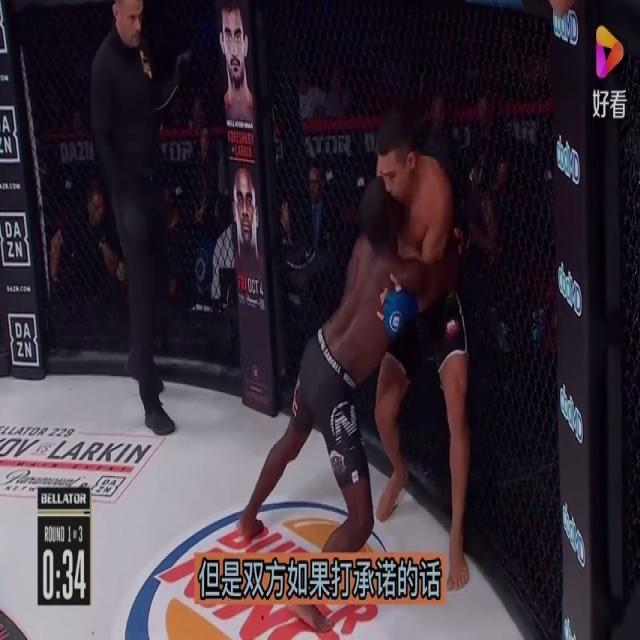fight: (233, 122, 474, 634)
non-fight: (82, 0, 192, 437)
